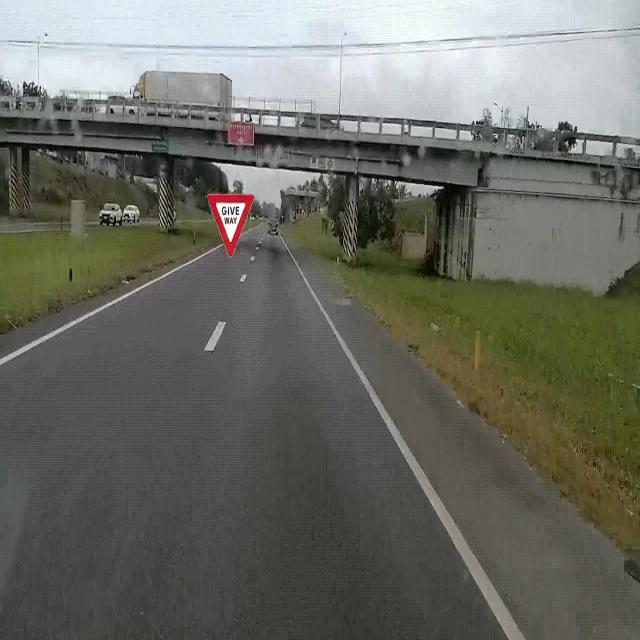Ceder-le-Passage: (207, 189, 255, 263)
